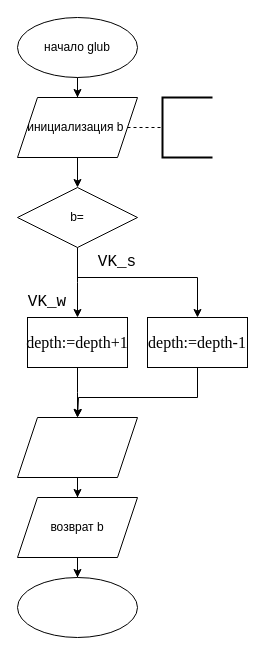
The diagram is 265 pixels wide and 655 high, and some of its shapes have lost their labels. The centre of each missing label's shape, as x and y in pixels:
window.clear: the point at 77,447
конец glub: the point at 77,607
по значению: the point at 187,127
